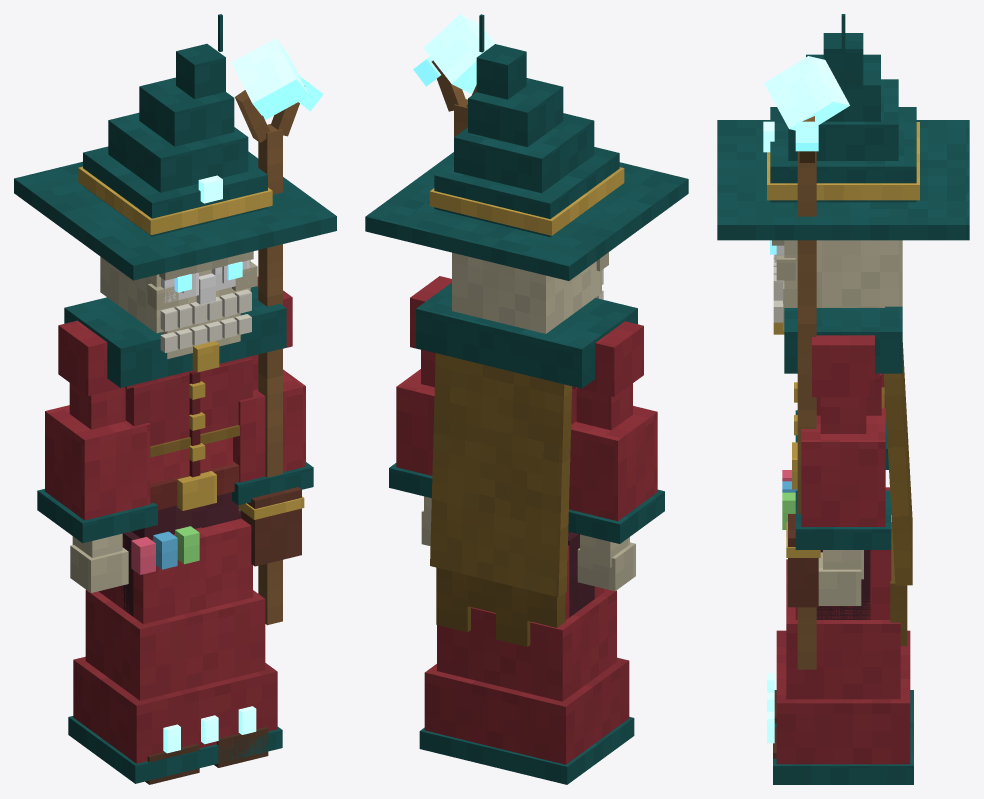
Rendered from undead_mage_v2.glb.
3 views of the same model, side by side, from view 1: azimuth 30°, elevation 25°; view 2: azimuth 150°, elevation 25°; view 3: azimuth 270°, elevation 25° (orthographic). The views are drawn at different scales.
Visible parts, largest first — view 1: Head, Root, Torso, ArmR, HandL, ArmL, LegL, LegR; view 2: Torso, Head, Root, ArmR, ArmL, HandL, LegR; view 3: Head, Root, ArmL, Torso, HandL, LegL.
Part boxes in pixels (<box>): Head: <box>14,14,336,358</box>; Root: <box>68,518,282,783</box>; Torso: <box>64,286,304,574</box>; ArmR: <box>37,320,157,592</box>; HandL: <box>231,38,323,625</box>; ArmL: <box>232,277,313,511</box>; LegL: <box>202,511,268,767</box>; LegR: <box>116,531,199,784</box>; Torso: <box>416,282,637,646</box>; Head: <box>365,14,688,333</box>; Root: <box>419,545,634,784</box>; ArmR: <box>568,321,664,591</box>; ArmL: <box>389,276,451,546</box>; HandL: <box>413,14,495,137</box>; LegR: <box>568,532,594,617</box>; Head: <box>717,14,969,330</box>; Root: <box>767,487,913,784</box>; ArmL: <box>795,335,891,605</box>; Torso: <box>773,306,912,645</box>; HandL: <box>764,56,849,669</box>; LegL: <box>773,550,870,758</box>.
Size of the model in its own units: 0.7694 by 2.2 by 0.66.
Materials: 37 (37 with a texture image).
